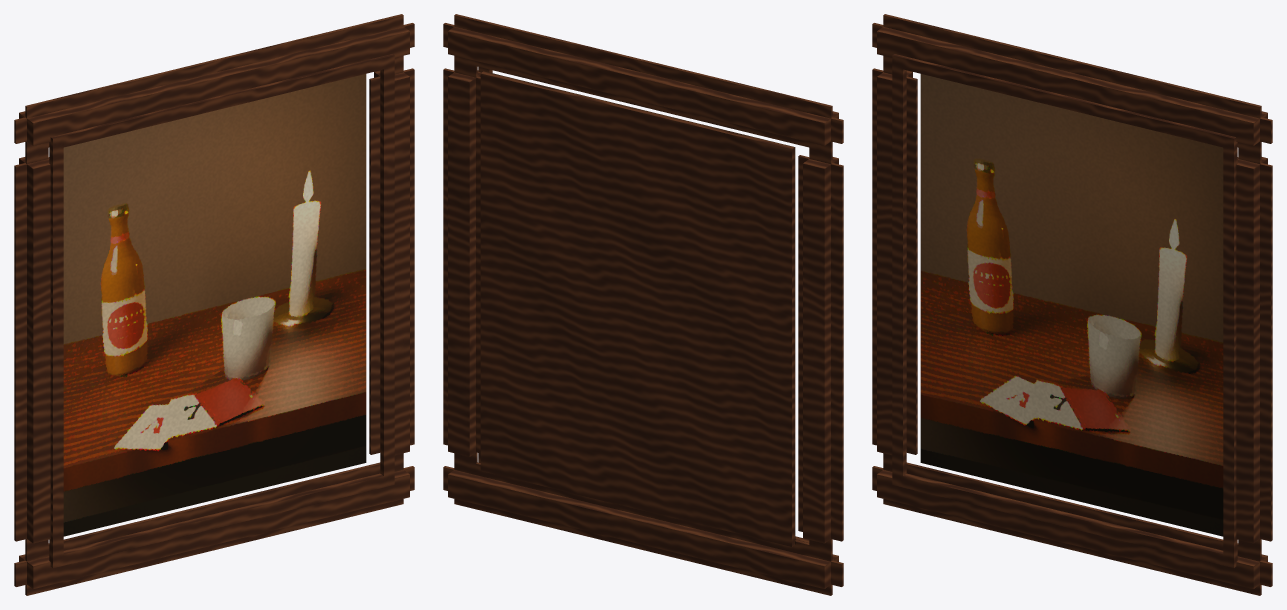
Rendered from Cuadro_Bodegon.fbx.
3 renders of one model, left to right at view 1: azimuth 30°, elevation 25°; view 2: azimuth 150°, elevation 25°; view 3: azimuth 330°, elevation 25°, orthographic.
Parts seen in each view (by area): view 1: Cuadro_Bodegon; view 2: Cuadro_Bodegon; view 3: Cuadro_Bodegon.
Boxes of the visible parts, left/top/right/bottom form: Cuadro_Bodegon: left=14, top=14, right=414, bottom=595; Cuadro_Bodegon: left=443, top=14, right=843, bottom=595; Cuadro_Bodegon: left=872, top=14, right=1272, bottom=595.
Bounding box in the file's own units: 0.64 × 0.75 × 0.046.
2 materials, 2 textured.
